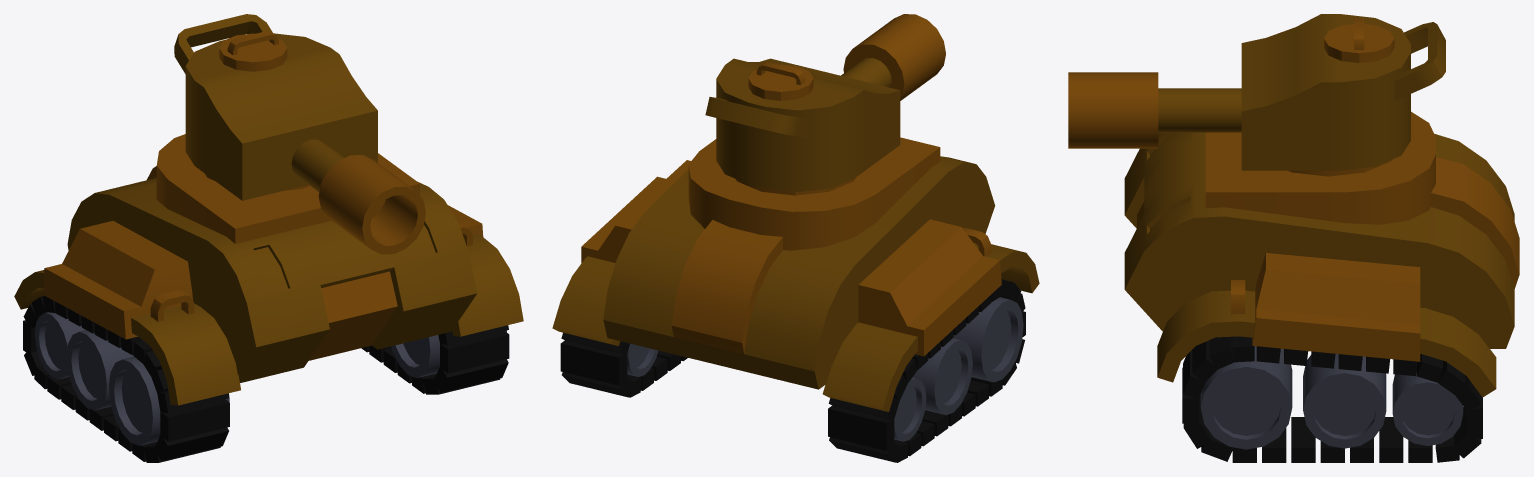
The model's file is Tank.obj.
3 renders of one model, left to right at view 1: azimuth 30°, elevation 25°; view 2: azimuth 150°, elevation 25°; view 3: azimuth 270°, elevation 25°, orthographic. The views are drawn at different scales.
Parts seen in each view (by area): view 1: Tank_Cylinder.010; view 2: Tank_Cylinder.010; view 3: Tank_Cylinder.010.
Boxes of the visible parts, x1=… form: Tank_Cylinder.010: x1=14, y1=14, x2=523, y2=462; Tank_Cylinder.010: x1=552, y1=14, x2=1039, y2=462; Tank_Cylinder.010: x1=1068, y1=14, x2=1519, y2=462.
Size of the model in its own units: 2.37 by 2.14 by 2.5.
